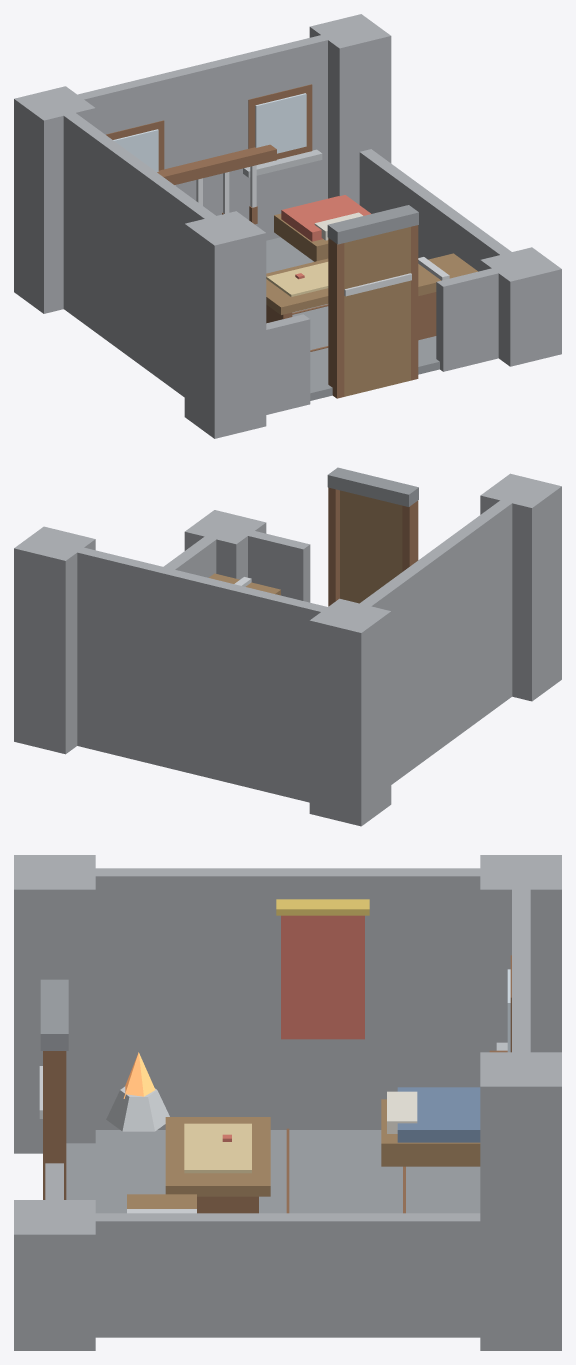
The model's file is guard_post_interior.glb.
3 renders of one model, top to bottom at view 1: azimuth 30°, elevation 25°; view 2: azimuth 150°, elevation 25°; view 3: azimuth 270°, elevation 25°, orthographic. The views are drawn at different scales.
Visible parts, largest first — view 1: floor_slab.001; view 2: floor_slab.001; view 3: floor_slab.001.
Part boxes in pixels (x1,y1,x2,y2): floor_slab.001: (14, 14, 561, 438); floor_slab.001: (14, 467, 561, 826); floor_slab.001: (14, 855, 561, 1350).
Size of the model in its own units: 4.7 by 2.5 by 4.7.
